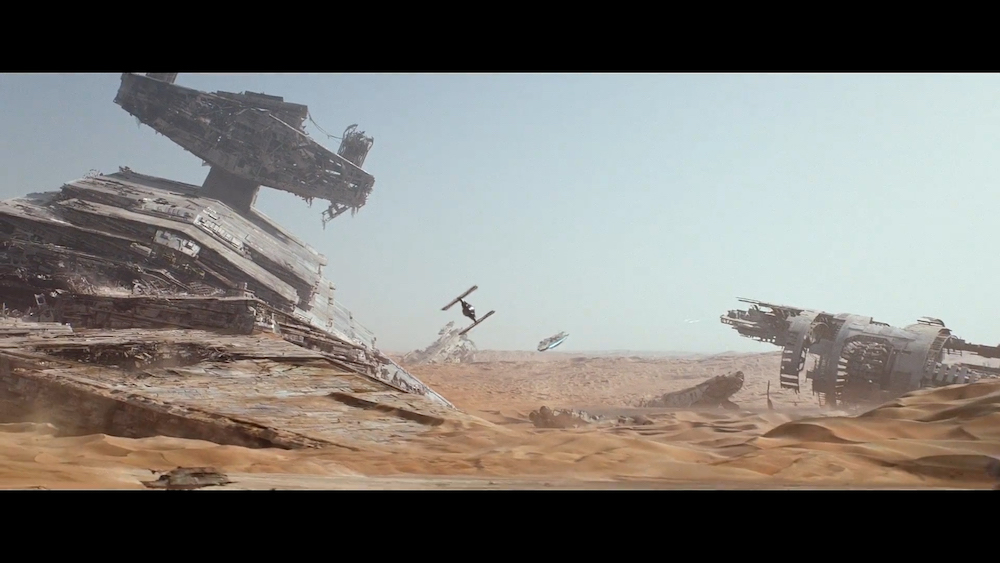Millennium Falcon: (537, 332, 570, 353)
Tie Fighter: (441, 286, 496, 336)
